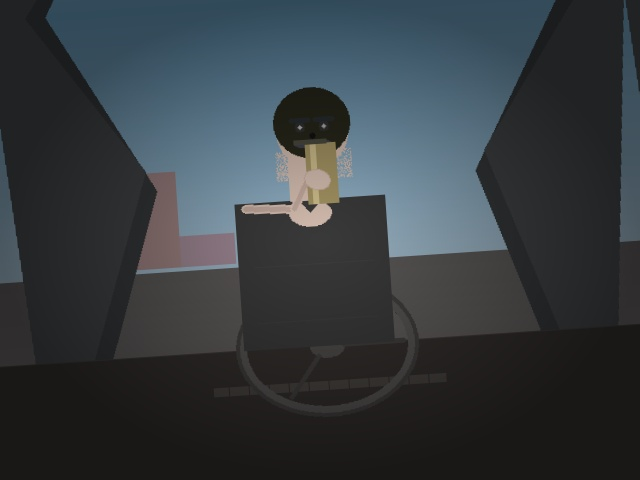drinking: (291, 129, 351, 213)
